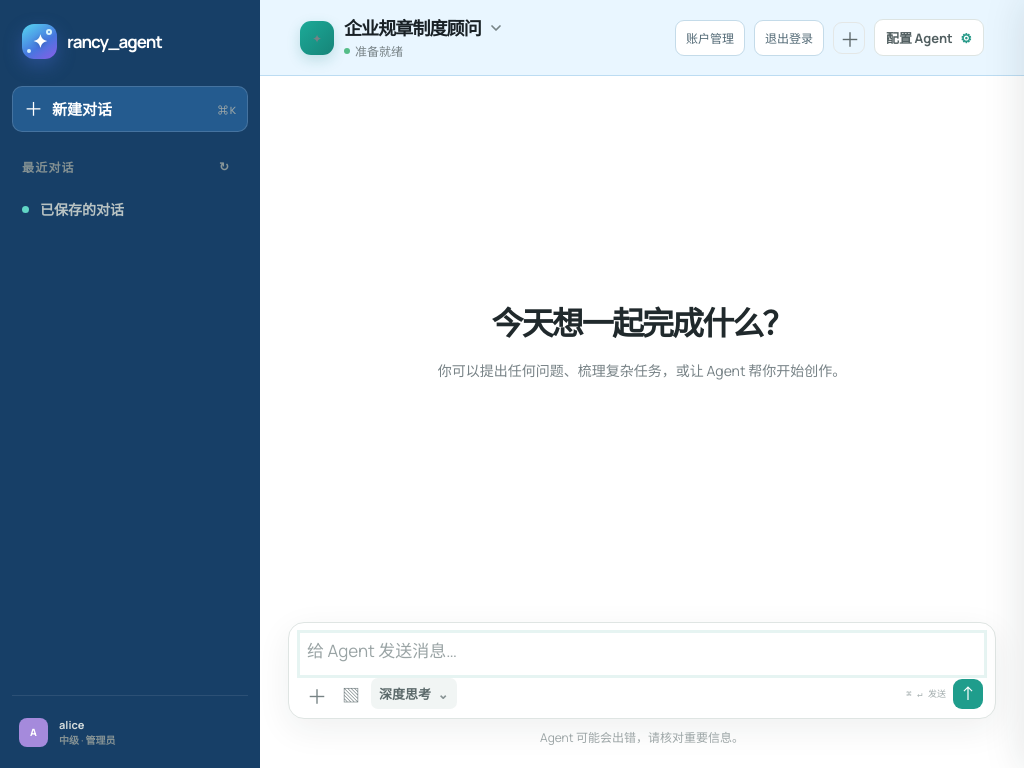
Test: prevents disabling self and returns to login after resetting own password
Expected: the button "退出登录" is shown, [754,20,824,56]
Click the button "账户管理".
click(710, 38)  # box [675,20,745,56]
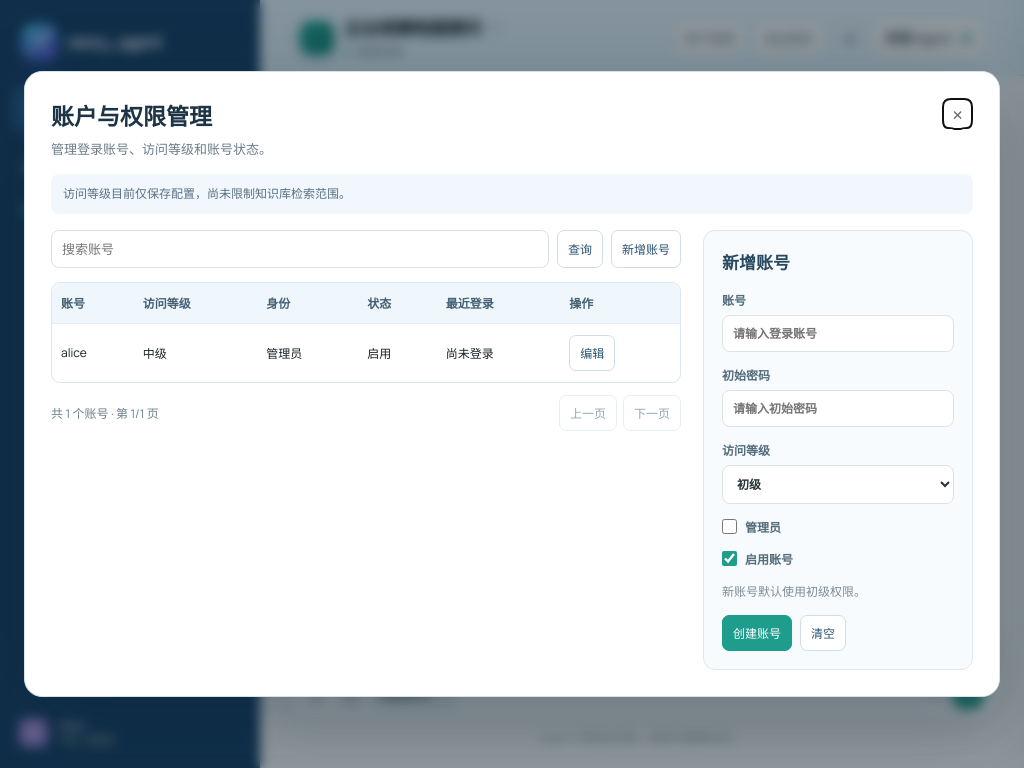
Expected: the button "创建账号" is enabled, [722,615,792,651]
Click the button with aria-label "编辑 alice".
click(592, 352)  # box [569,334,615,370]
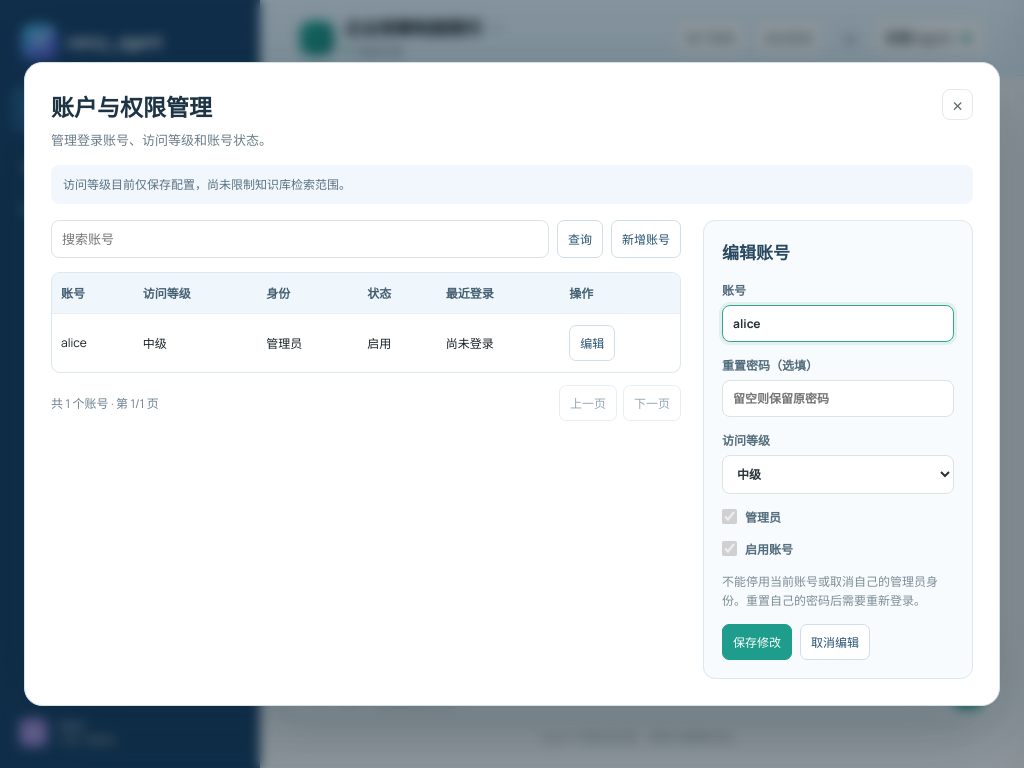
Expected: the checkbox labelled "管理员" is disabled, [722,509,737,524]
Expected: the checkbox labelled "启用账号" is disabled, [722,541,737,556]
Type "new-password" into the password field labelled "重置密码（选填）".
click(838, 398); type("new-password")  # box [722,380,954,417]
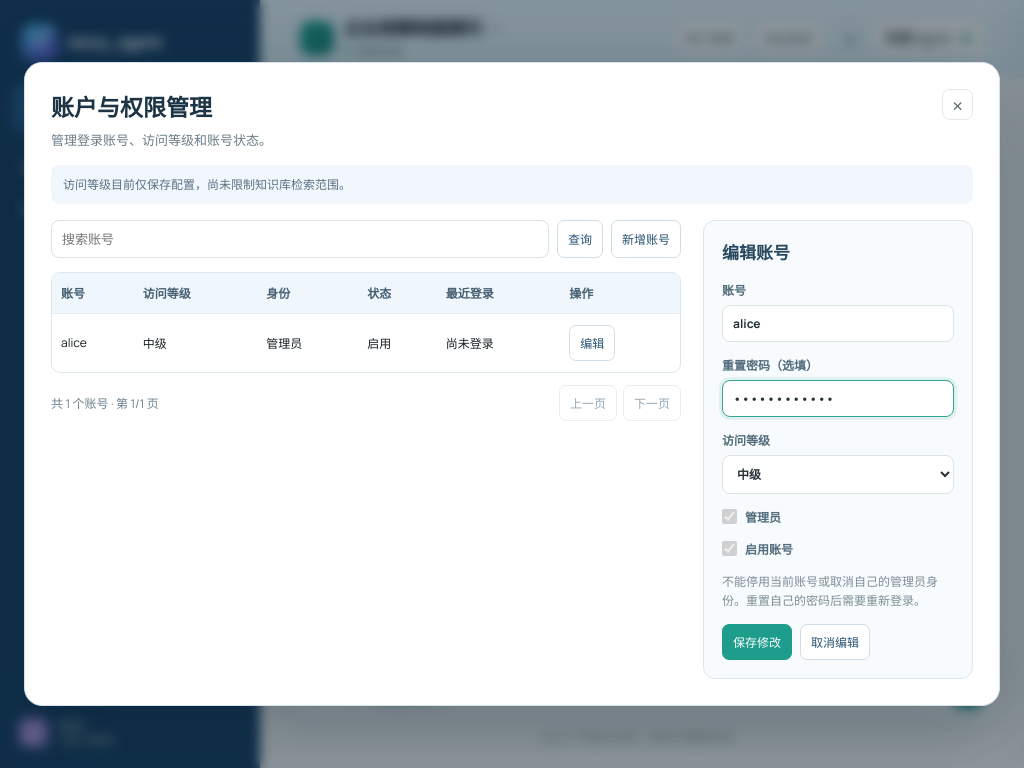
Click the button "保存修改".
click(757, 642)  # box [722,624,792,660]
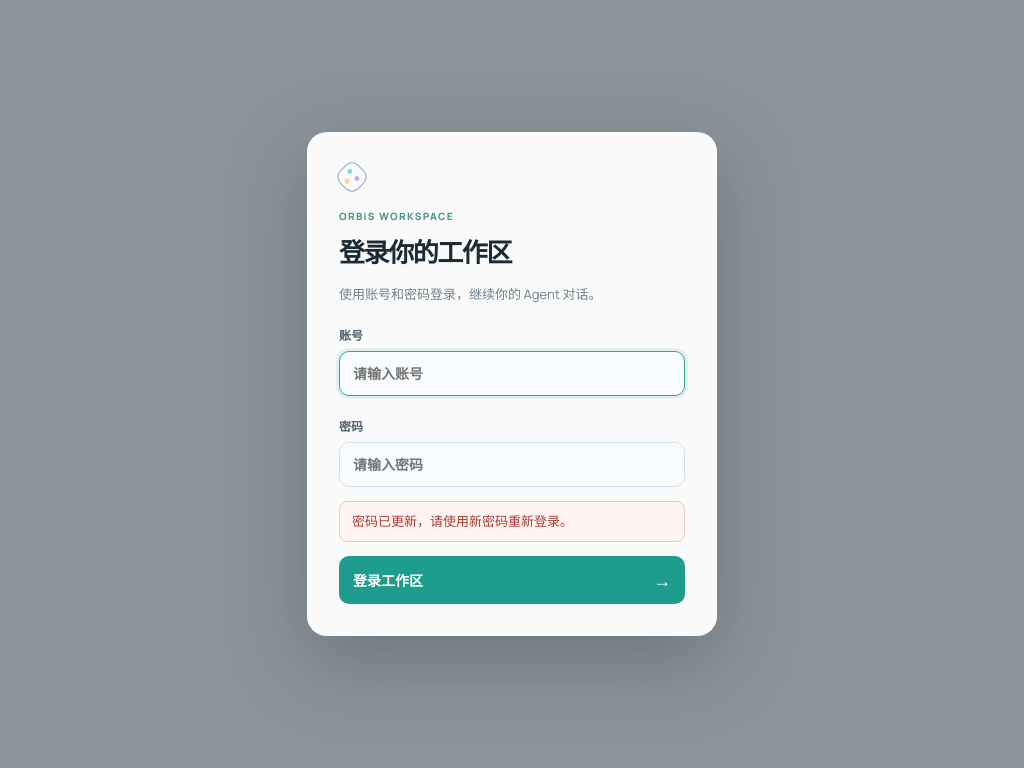
Expected: the heading "登录你的工作区" is shown, [339,234,511,270]
Expected: the message reads "密码已更新，请使用新密码重新登录。", [352,512,573,530]
Expected: the heading "账户与权限管理" is gone
